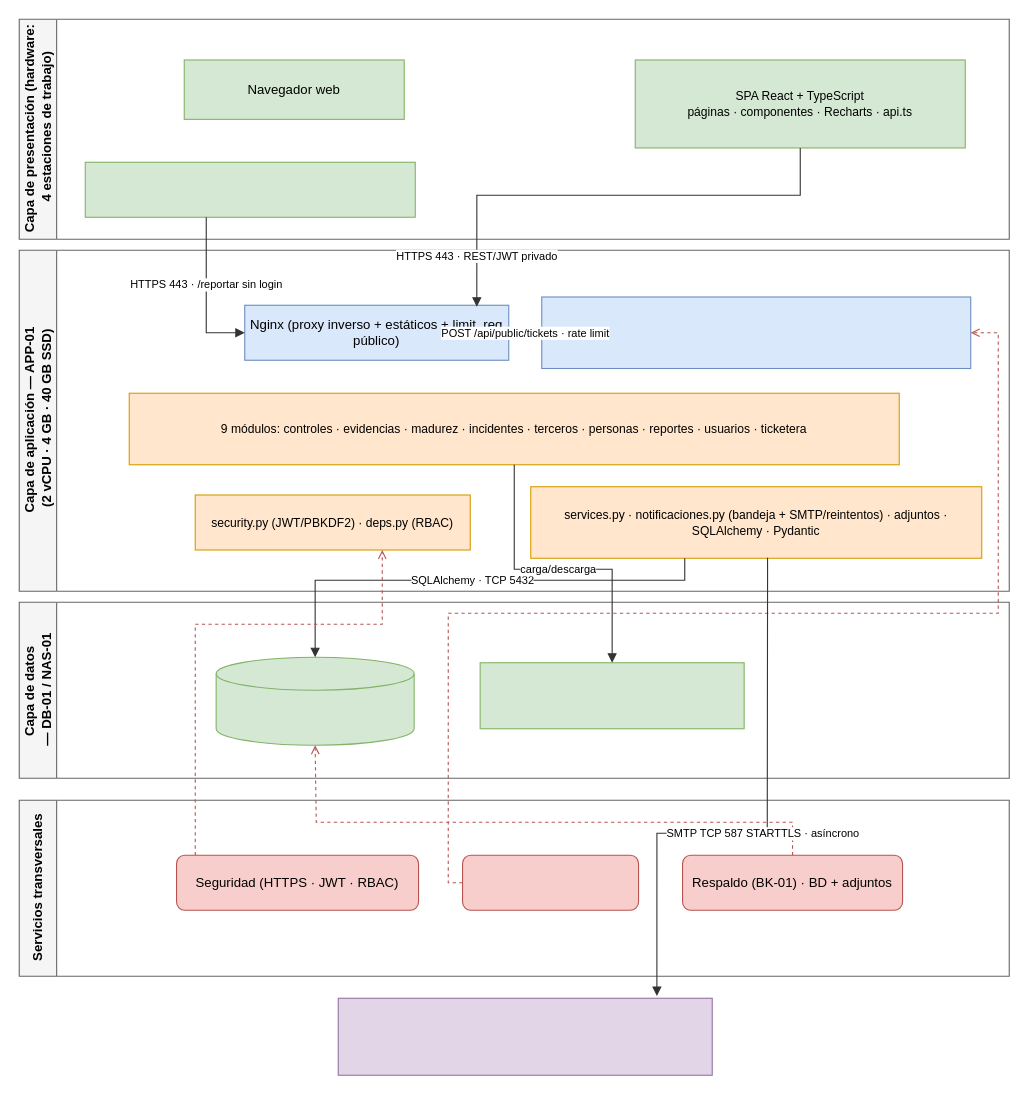
Image size: 1029x1095. Some labels were removed from this diagram. The shapes that lost their labels are listed below. From the top down, each one's centre as x and y in pixels, then its label:
At point (249, 189): "Funcionario del hospital · reportante sin autenticación".
At point (756, 332): "FastAPI / Uvicorn · routers auth, usuarios, tickets, public_tickets".
At point (314, 700): "PostgreSQL (DB-01)".
At point (611, 695): "Sistema de archivos: evidencias/ + evidencias/tickets/ restringida (NAS-01)".
At point (550, 882): "Monitoreo".
At point (524, 1036): "SMTP-01 · Relay de correo institucional existente".
